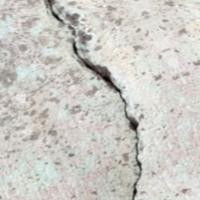crack: (38, 0, 152, 199)
